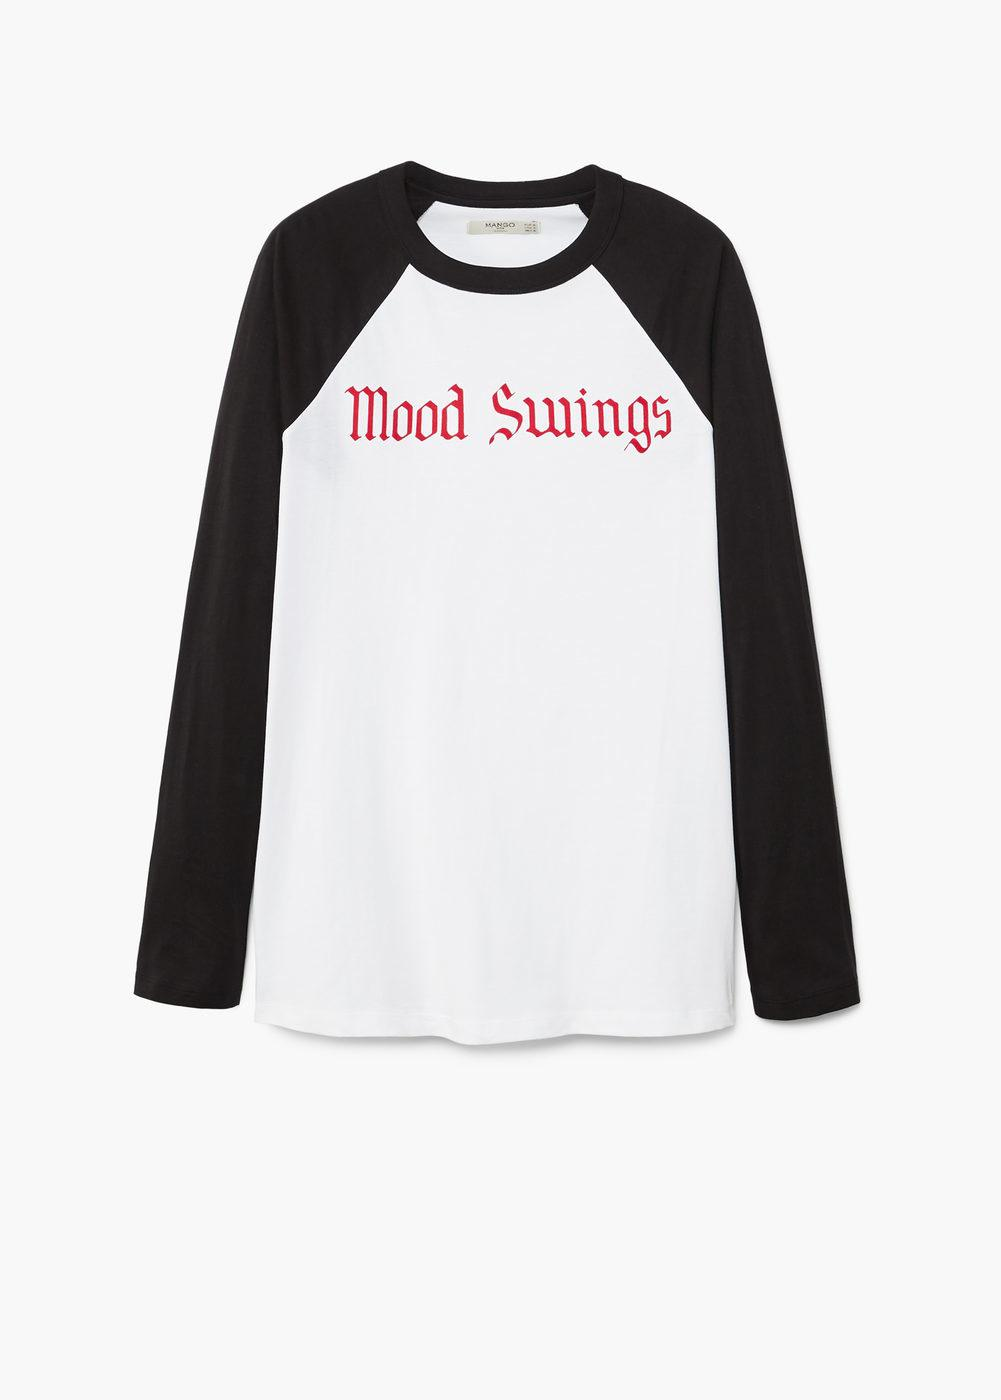teeshirt: (95, 157, 893, 1078)
